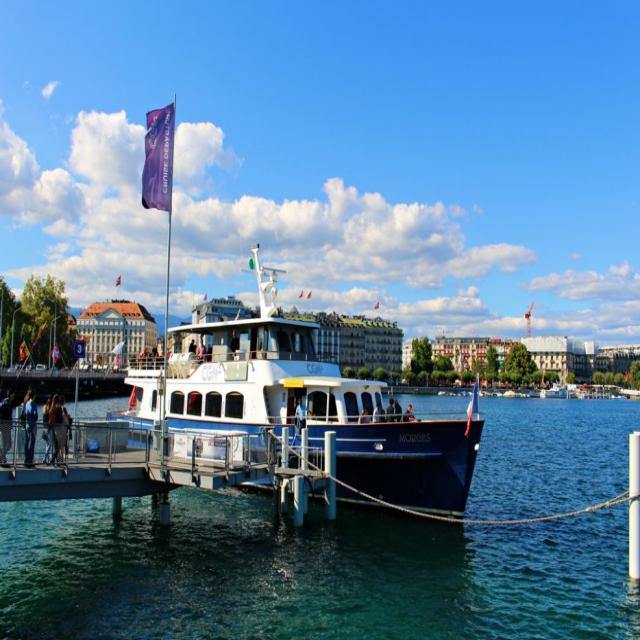houseboat: (128, 288, 478, 506)
